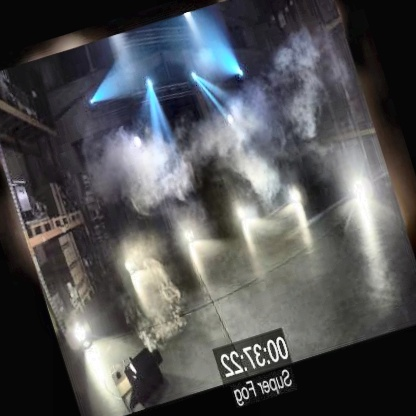smoke: (103, 82, 290, 214)
